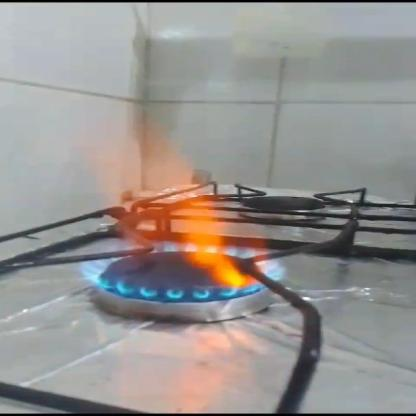fire: (72, 100, 294, 305)
